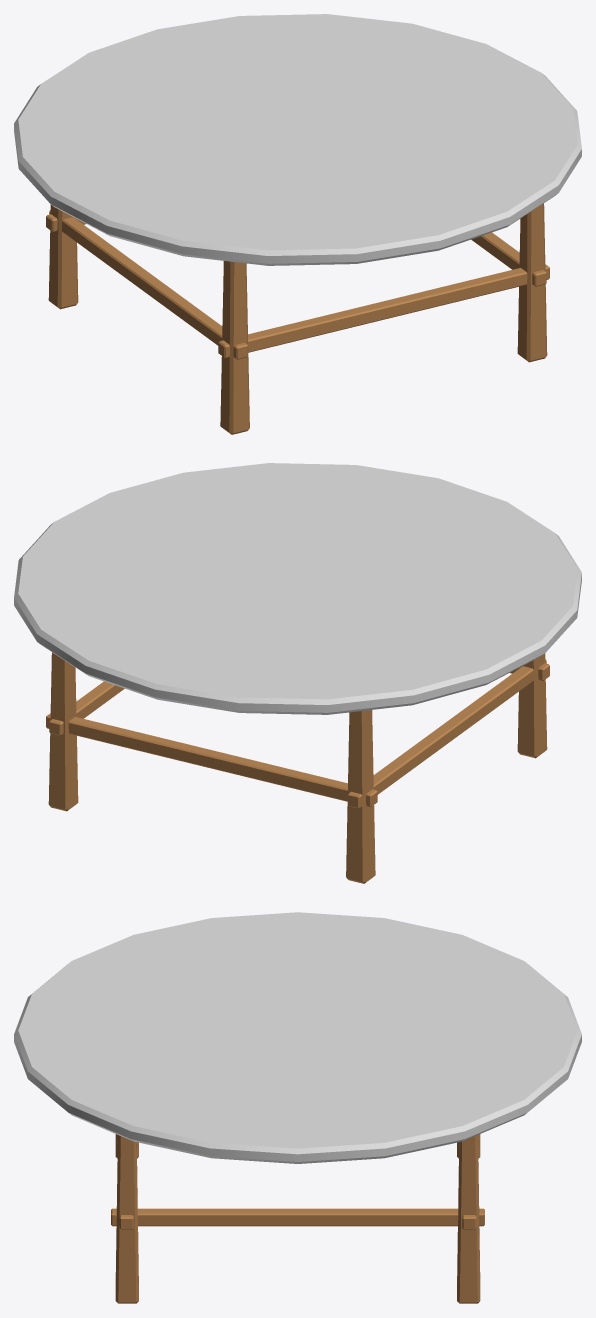
The model's file is kids-table-round-sm1.glb.
The picture shows the model from 3 angles, top to bottom: view 1: azimuth 30°, elevation 25°; view 2: azimuth 150°, elevation 25°; view 3: azimuth 270°, elevation 25°; orthographic projection.
Visible parts, largest first — view 1: kids-table-round-sm1.tint, kids-table-round-sm1.wood; view 2: kids-table-round-sm1.tint, kids-table-round-sm1.wood; view 3: kids-table-round-sm1.tint, kids-table-round-sm1.wood.
Boxes of the visible parts, x1,y1,x2,y2 form: kids-table-round-sm1.tint: (14, 14, 581, 265); kids-table-round-sm1.wood: (46, 203, 549, 434); kids-table-round-sm1.tint: (14, 463, 581, 714); kids-table-round-sm1.wood: (46, 652, 549, 883); kids-table-round-sm1.tint: (14, 912, 581, 1163); kids-table-round-sm1.wood: (111, 1134, 484, 1303).
Bounding box in the file's own units: 1.2 × 0.46 × 1.2.
